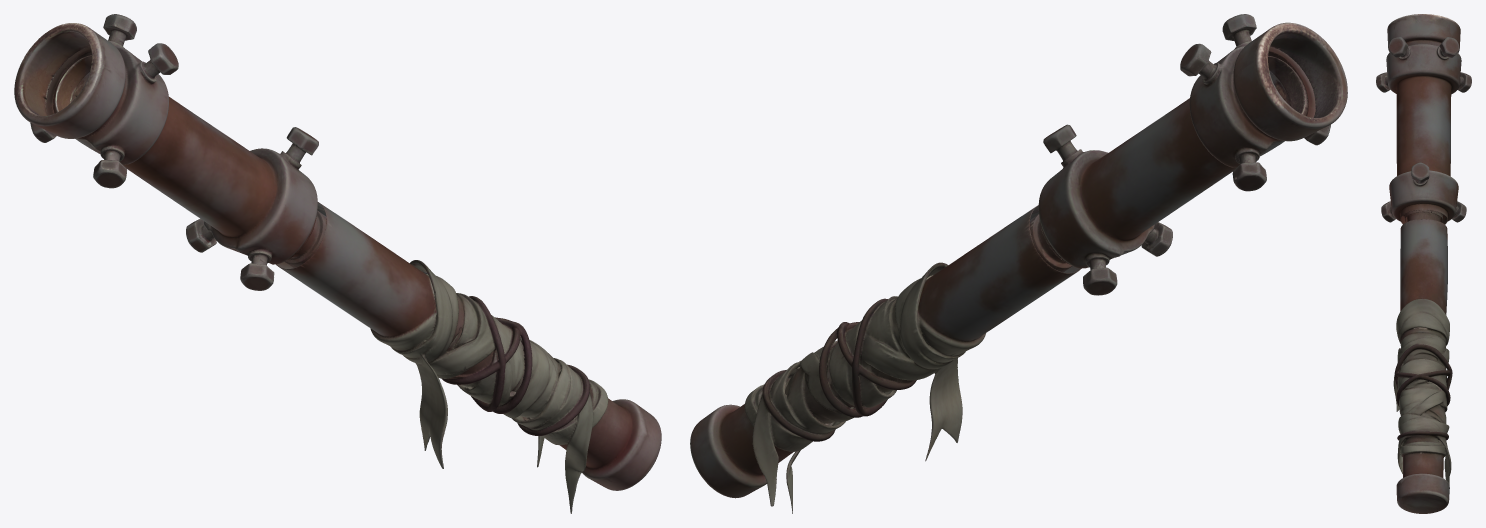
File: Meshy_AI_Pipe_Club_Model_0217084938_texture.fbx
3 renders of one model, left to right at view 1: azimuth 30°, elevation 25°; view 2: azimuth 150°, elevation 25°; view 3: azimuth 270°, elevation 25°, orthographic. The views are drawn at different scales.
Parts seen in each view (by area): view 1: Mesh_0; view 2: Mesh_0; view 3: Mesh_0.
Boxes of the visible parts, x1,y1,x2,y2 form: Mesh_0: [14, 14, 661, 513]; Mesh_0: [690, 14, 1347, 513]; Mesh_0: [1376, 14, 1471, 513].
Bounding box in the file's own units: 190 × 173 × 42.34.
Materials: 1 (1 with a texture image).
